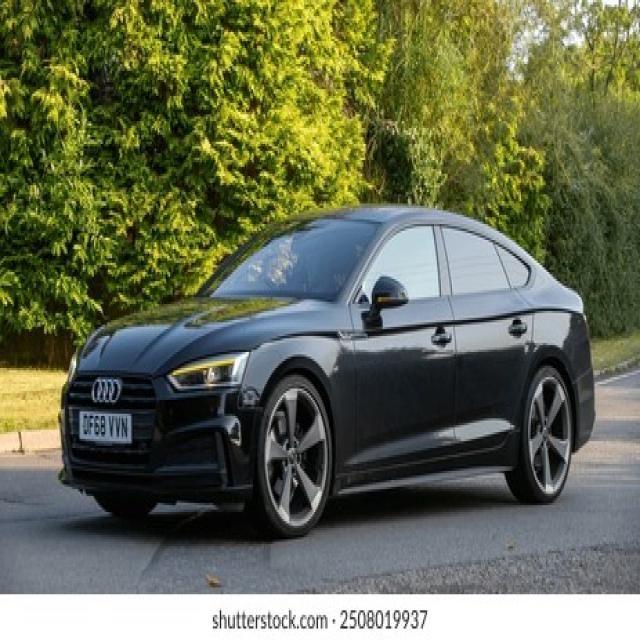audi: (91, 375, 121, 409)
